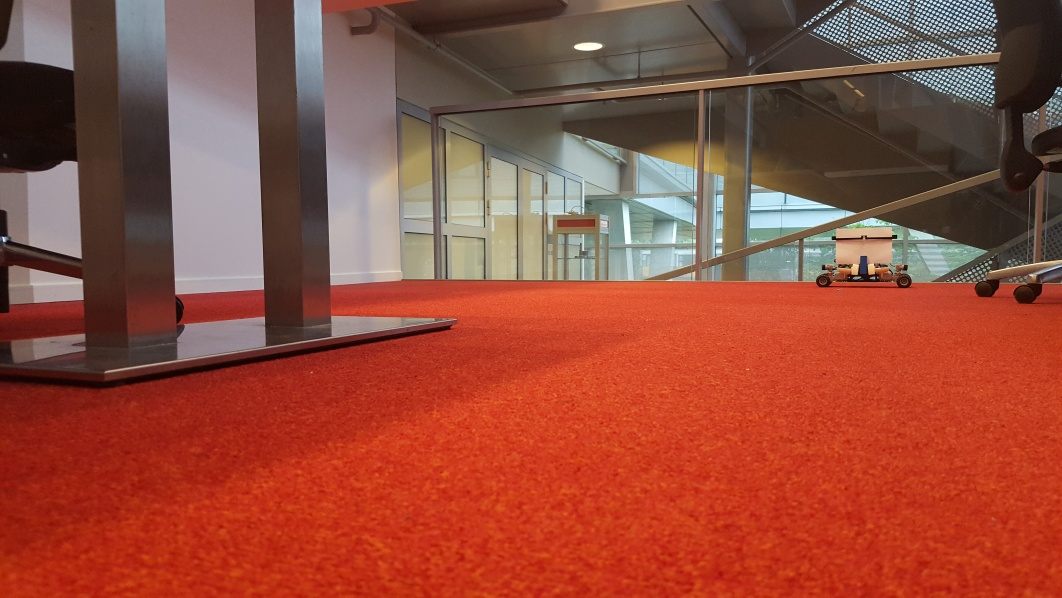car: (816, 227, 912, 290)
